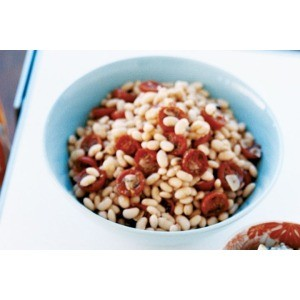beans_brain food: (86, 117, 242, 190)
